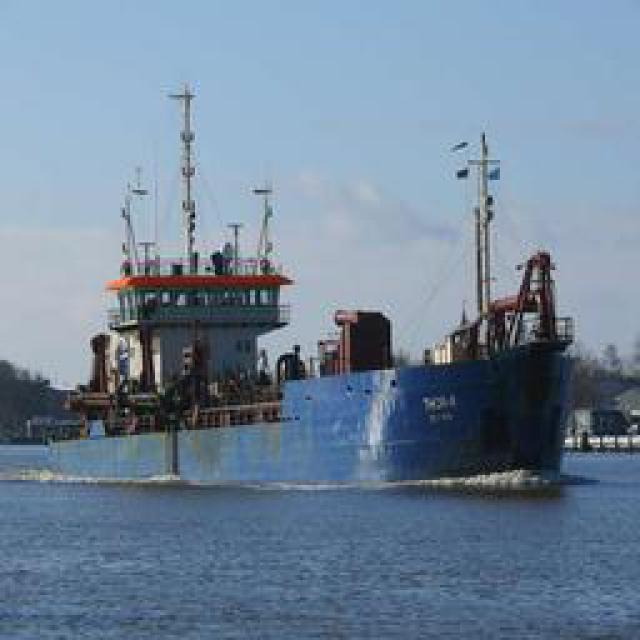Ship: (31, 72, 583, 506)
